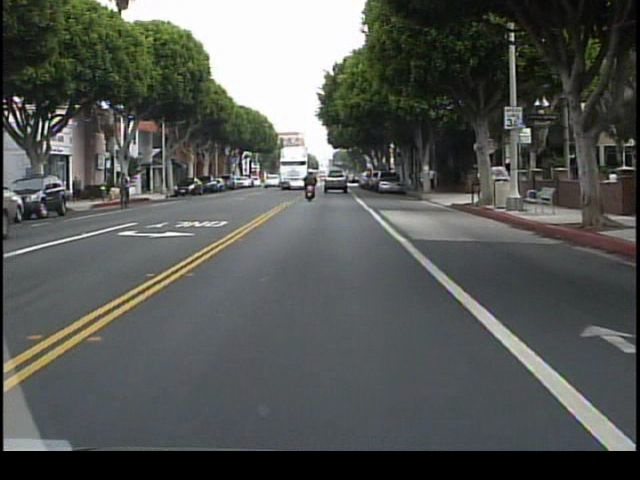person: (116, 167, 136, 206), (304, 164, 322, 206), (414, 166, 425, 193), (434, 164, 443, 191), (431, 167, 436, 191)
